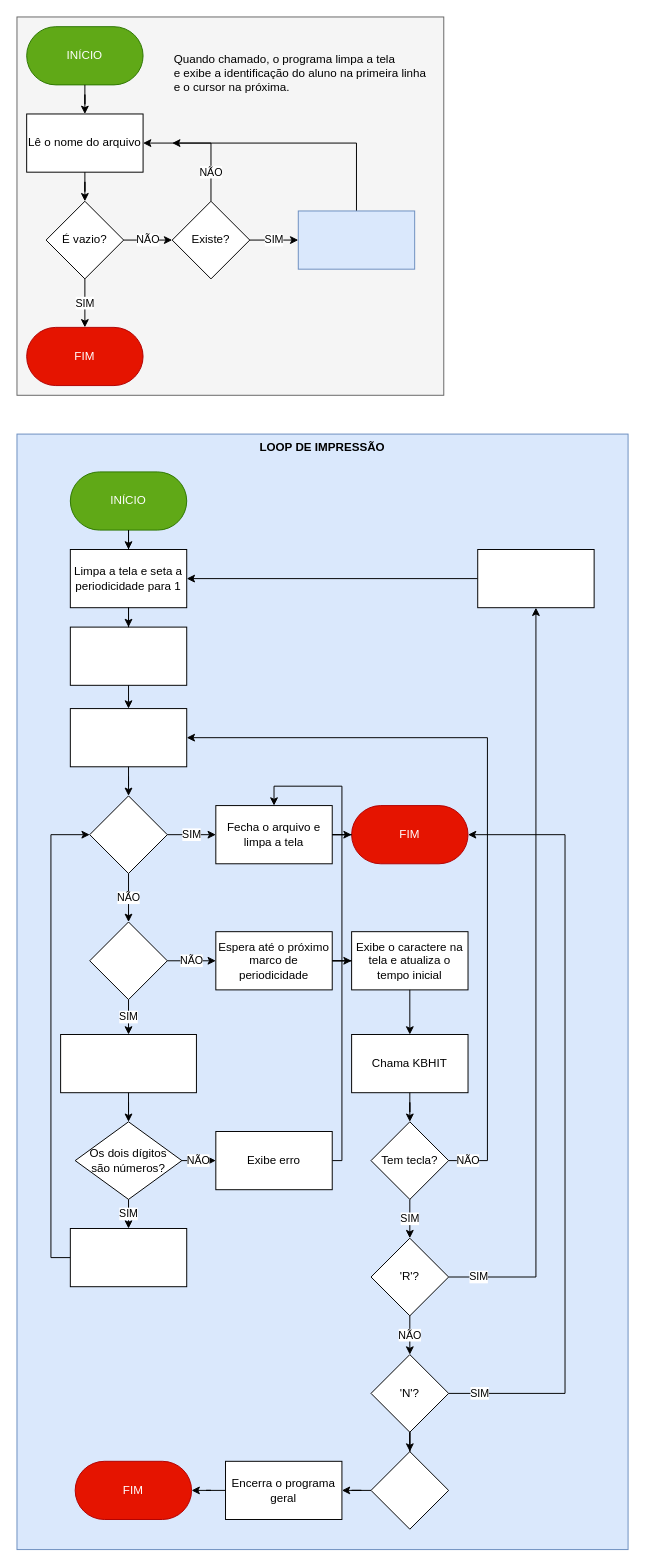
Image size: 645x1567. Some labels were removed from this diagram. Here are the shapes that lost their labels. From the top down, the centre of each, then its label:
At [356,239]: "Rotina de impressão".
At [535,578]: "Reinicia o arquivo atual".
At [128,655]: "Ler e salvar o tempo inicial".
At [128,737]: "Lê o próximo caractere do arquivo".
At [128,834]: "EOF?".
At [128,960]: "É um '#'?".
At [128,1063]: "Lê os próximos 2 caracteres e converte para decimal. Seta nova periodicidade".
At [128,1257]: "Lê o próximo caractere".
At [409,1490]: "'ESC'?".
